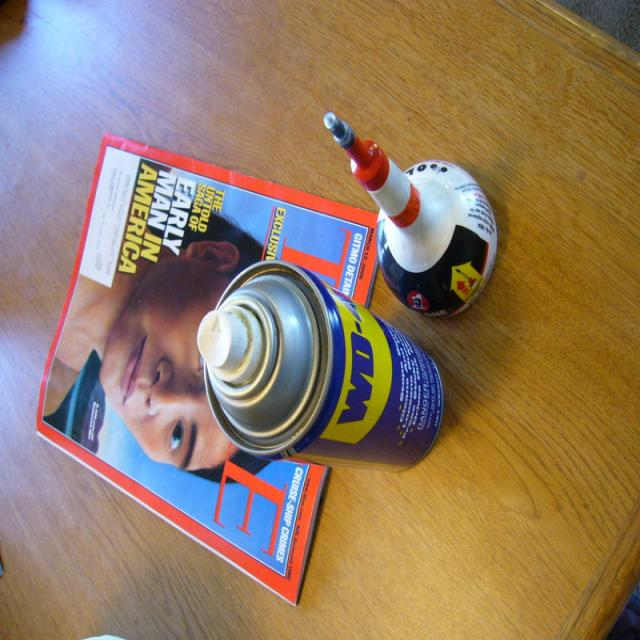book: (38, 134, 375, 603)
